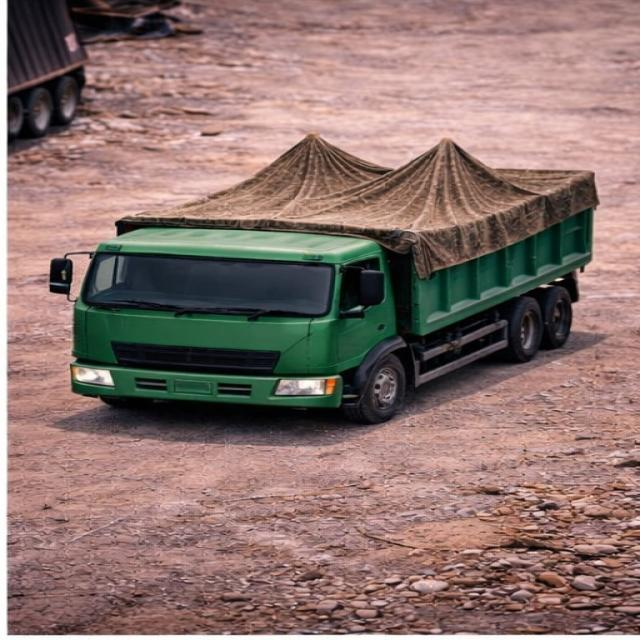Box: (127, 133, 602, 222)
Truck: (42, 106, 612, 418)
